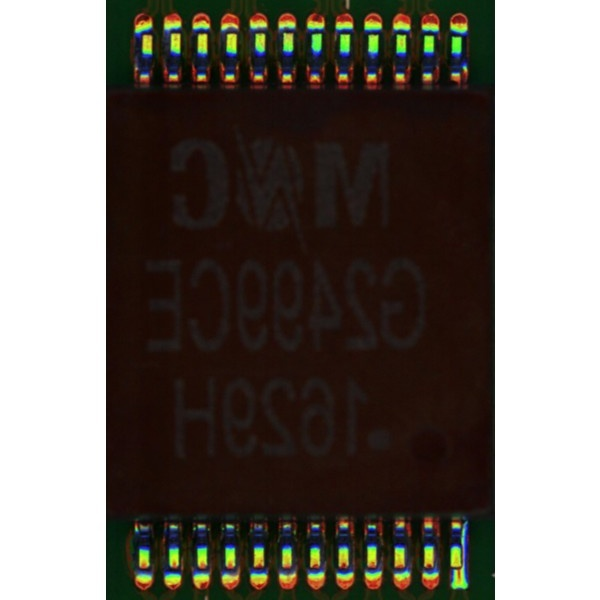Bad_podu: (455, 561, 462, 582)
Bad_qiaojiao: (461, 521, 470, 568)
